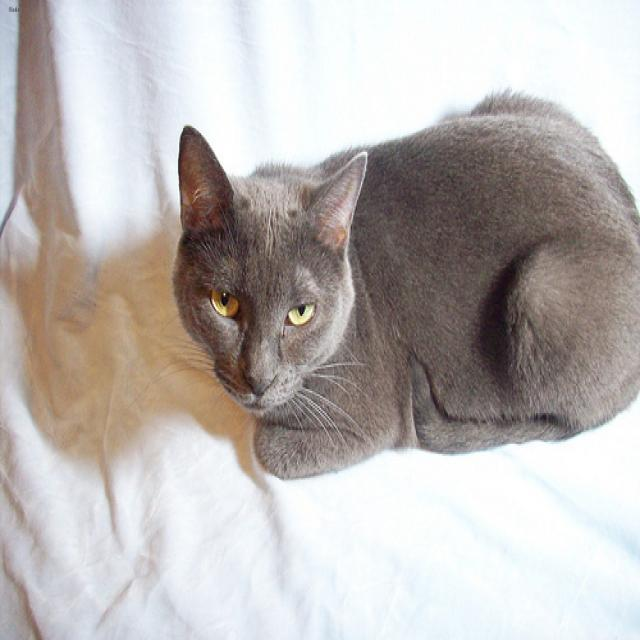Russian_Blue: (171, 125, 365, 411)
